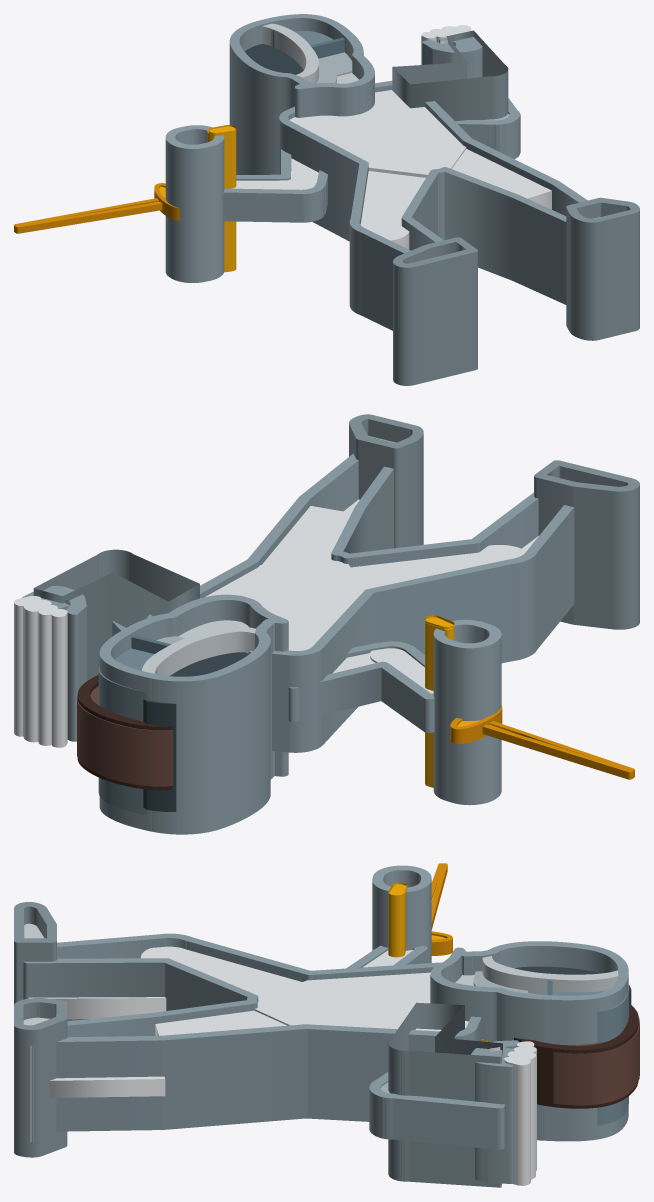
File: emoji_u1f93a.glb
3 views of the same model, one above another, from view 1: azimuth 30°, elevation 25°; view 2: azimuth 150°, elevation 25°; view 3: azimuth 270°, elevation 25° (orthographic). The views are drawn at different scales.
Parts seen in each view (by area): view 1: emoji_u1f93a; view 2: emoji_u1f93a; view 3: emoji_u1f93a.
Part boxes in pixels (x1=…): emoji_u1f93a: x1=14, y1=14, x2=639, y2=385; emoji_u1f93a: x1=14, y1=414, x2=639, y2=834; emoji_u1f93a: x1=14, y1=863, x2=639, y2=1187.
Bounding box in the file's own units: 0.0327 × 0.0088 × 0.0329.
